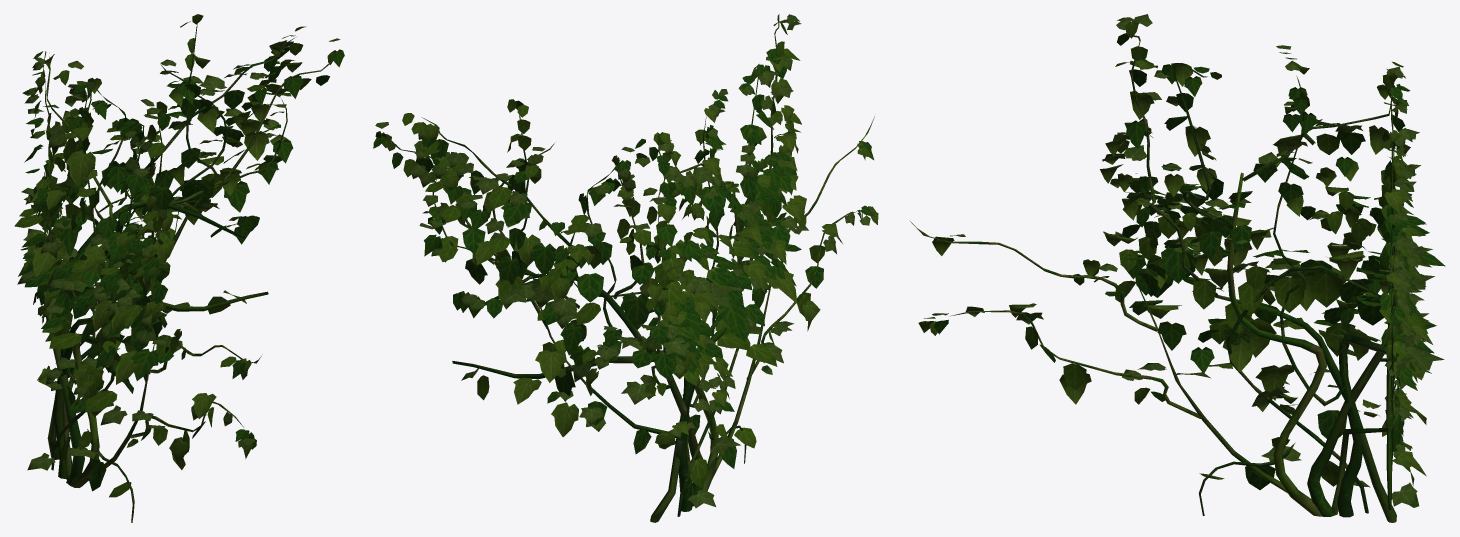
Rendered from SM_IvyCornerOut.fbx.
3 views of the same model, side by side, from view 1: azimuth 30°, elevation 25°; view 2: azimuth 150°, elevation 25°; view 3: azimuth 270°, elevation 25° (orthographic). The views are drawn at different scales.
Visible parts, largest first — view 1: SM_IvyCornerOut_LOD0; view 2: SM_IvyCornerOut_LOD0; view 3: SM_IvyCornerOut_LOD0.
Part boxes in pixels (bbox=[...]): SM_IvyCornerOut_LOD0: bbox=[14, 14, 344, 522]; SM_IvyCornerOut_LOD0: bbox=[373, 14, 878, 522]; SM_IvyCornerOut_LOD0: bbox=[910, 14, 1445, 522].
Size of the model in its own units: 103 by 127 by 128.
